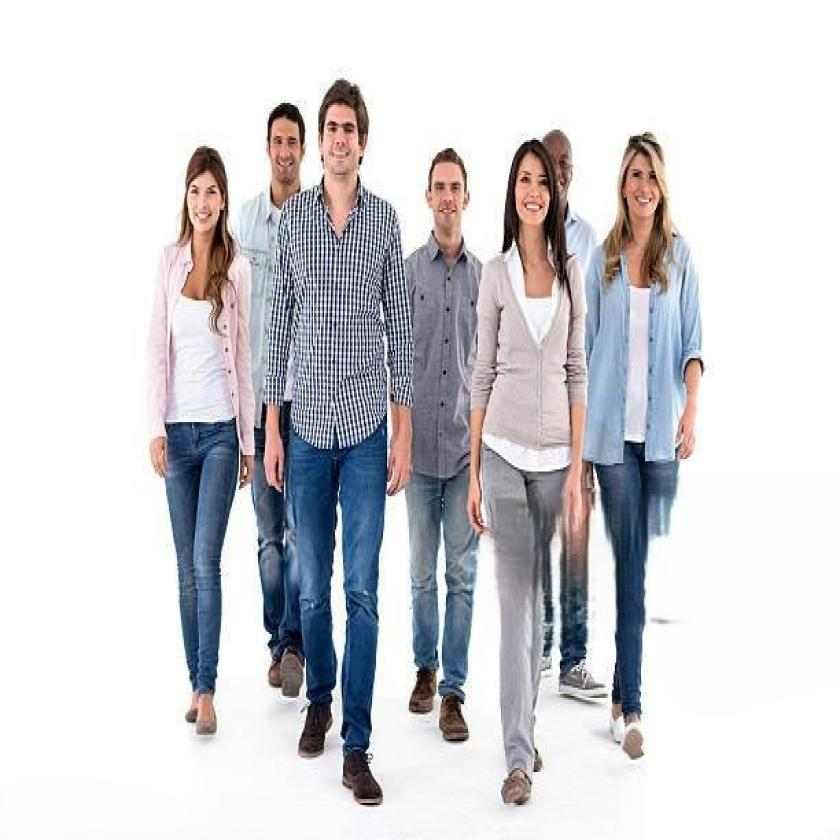Sin_casco: (609, 115, 675, 223), (314, 72, 376, 184), (508, 134, 556, 242), (424, 140, 470, 238), (179, 140, 229, 228), (267, 85, 303, 187), (542, 127, 580, 208)
